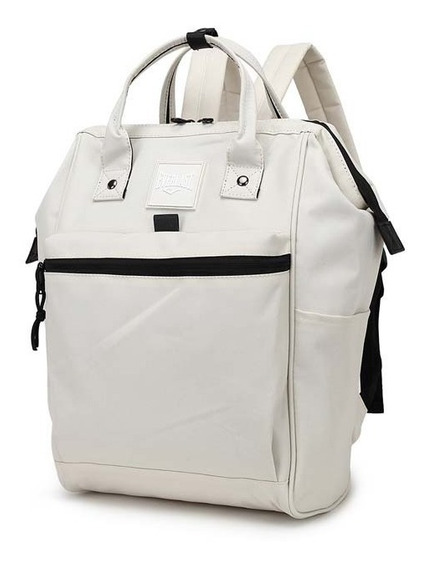cartera: (31, 25, 388, 521)
